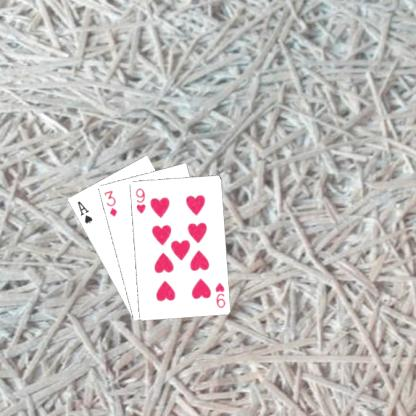3D: (101, 188, 119, 218)
9H: (133, 185, 147, 215), (212, 280, 226, 309)
AS: (74, 198, 94, 225)
